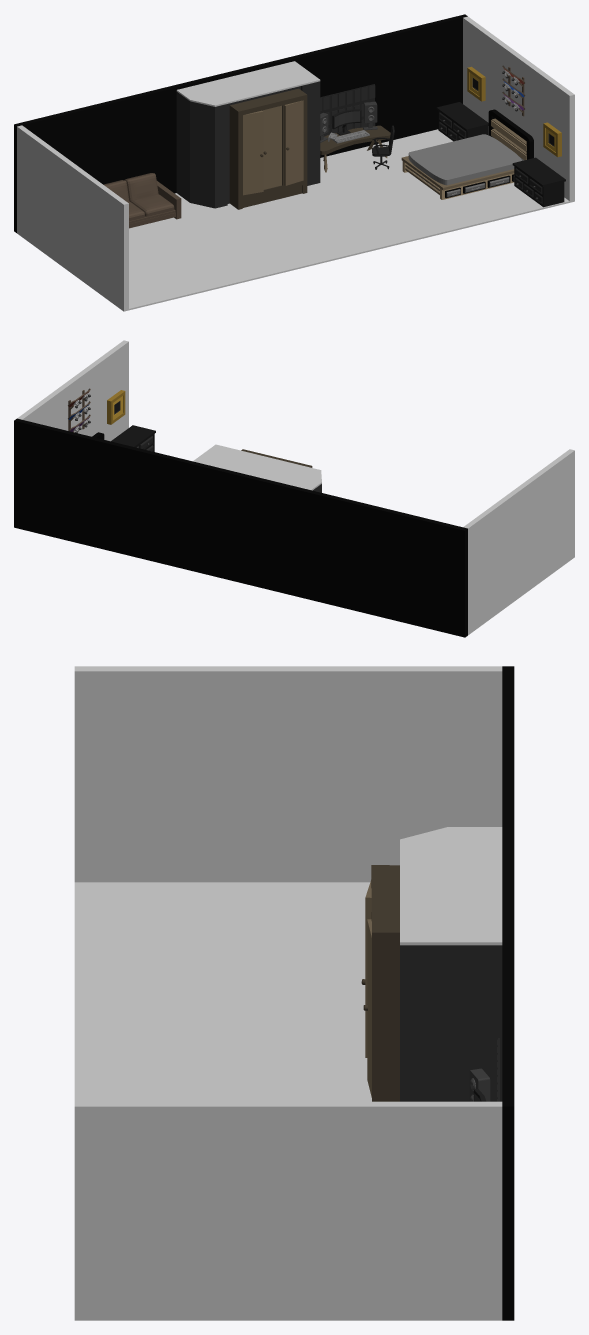
The model's file is individualroom.obj.
3 renders of one model, top to bottom at view 1: azimuth 30°, elevation 25°; view 2: azimuth 150°, elevation 25°; view 3: azimuth 270°, elevation 25°, orthographic. The views are drawn at different scales.
Parts seen in each view (by area): view 1: Cube.021, Cube.034, Cube.062, Cube.035, Closet.002, Cube.053, Bed.001, Cube.054, Cube.058, Cube.059, Cube.046, Cube.048 (+8 smaller); view 2: Cube.034, Cube.062, Cube.035, Cube.054, Cube.058, Cube.061; view 3: Cube.035, Cube.062, Cube.021, Cube.053, Cube.054, Cube.034, Closet.002.
Part boxes in pixels (left/top/right/bottom): Cube.021: left=129, top=129, right=569, bottom=310; Cube.034: left=14, top=14, right=467, bottom=232; Cube.062: left=17, top=125, right=128, bottom=311; Cube.035: left=463, top=16, right=574, bottom=202; Closet.002: left=229, top=88, right=307, bottom=209; Cube.053: left=176, top=81, right=320, bottom=208; Bed.001: left=401, top=109, right=533, bottom=199; Cube.054: left=176, top=61, right=320, bottom=106; Cube.058: left=512, top=157, right=565, bottom=207; Cube.059: left=436, top=102, right=488, bottom=141; Cube.046: left=320, top=84, right=375, bottom=136; Cube.048: left=320, top=125, right=390, bottom=172; Cube.034: left=14, top=418, right=467, bottom=637; Cube.062: left=463, top=449, right=574, bottom=635; Cube.035: left=17, top=340, right=128, bottom=441; Cube.054: left=193, top=444, right=321, bottom=490; Cube.058: left=111, top=425, right=155, bottom=451; Cube.061: left=107, top=390, right=125, bottom=424; Cube.035: left=74, top=1101, right=502, bottom=1320; Cube.062: left=74, top=666, right=502, bottom=882; Cube.021: left=74, top=882, right=371, bottom=1101; Cube.053: left=400, top=945, right=502, bottom=1101; Cube.054: left=400, top=827, right=502, bottom=945; Cube.034: left=502, top=666, right=514, bottom=1320; Closet.002: left=361, top=865, right=399, bottom=1101.
Bounding box in the file's own units: 5.51 × 1.25 × 2.32.
